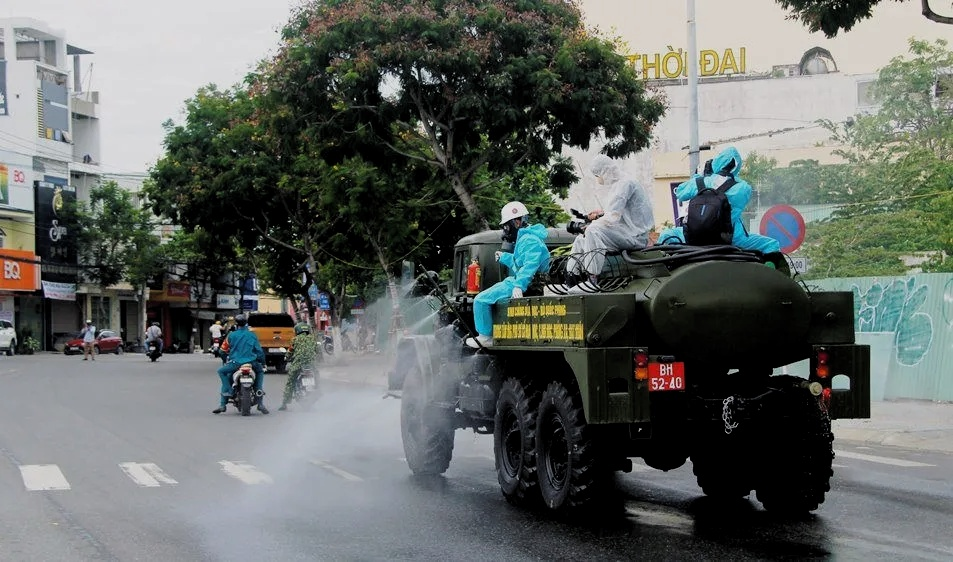plate: (642, 356, 686, 393)
